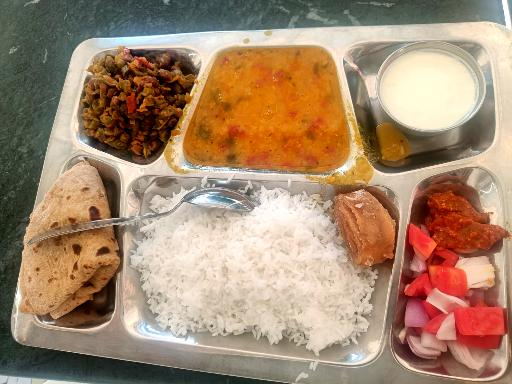Curd: (375, 43, 490, 135)
Dal: (192, 43, 352, 170)
Pickle: (429, 190, 507, 243)
Rice: (130, 178, 389, 350)
Roti: (20, 163, 112, 319)
Salad: (401, 250, 506, 370)
Sweet: (336, 186, 399, 265)
Vegetable: (68, 48, 189, 153)
